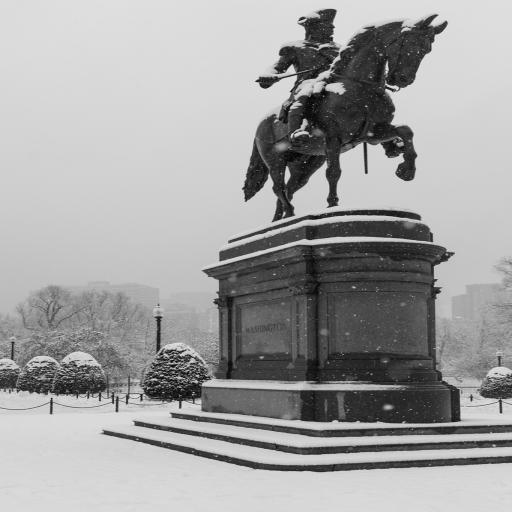horse: (244, 14, 450, 220)
